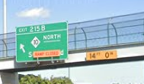0: (102, 51, 109, 59)
1: (87, 52, 92, 60)
4: (91, 51, 96, 60)
overheadsign: (85, 49, 118, 60)
